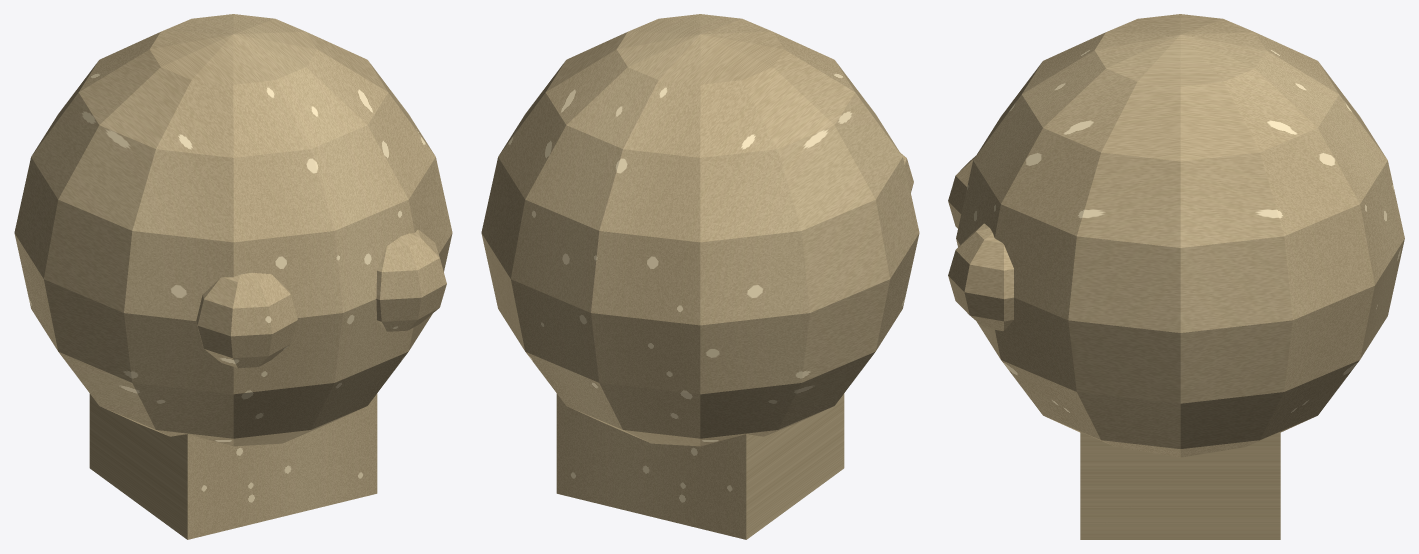
Rendered from calavera.obj.
The picture shows the model from 3 angles, left to right: view 1: azimuth 30°, elevation 25°; view 2: azimuth 150°, elevation 25°; view 3: azimuth 270°, elevation 25°; orthographic projection. The views are drawn at different scales.
Visible parts, largest first — view 1: calavera; view 2: calavera; view 3: calavera.
Boxes of the visible parts, x1,y1,x2,y2 form: calavera: (14,14,452,539); calavera: (481,14,919,539); calavera: (948,14,1404,539).
Size of the model in its own units: 0.56 by 0.63 by 0.57.
Materials: 1 (1 with a texture image).
